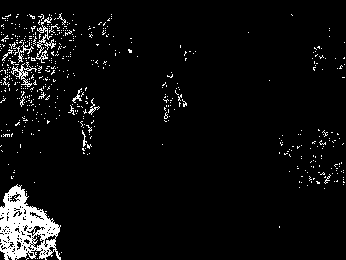person: (3, 184, 60, 260), (67, 85, 102, 156), (162, 71, 189, 126)
